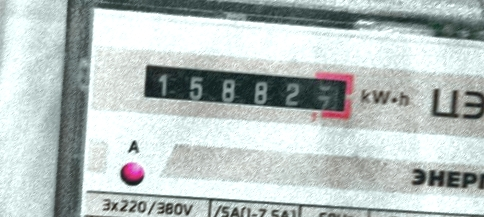1: (156, 68, 171, 98)
2: (283, 80, 302, 107)
5: (187, 72, 206, 104)
7: (316, 92, 330, 110)
8: (219, 75, 237, 104), (252, 77, 270, 106)
screen: (131, 47, 361, 127)
